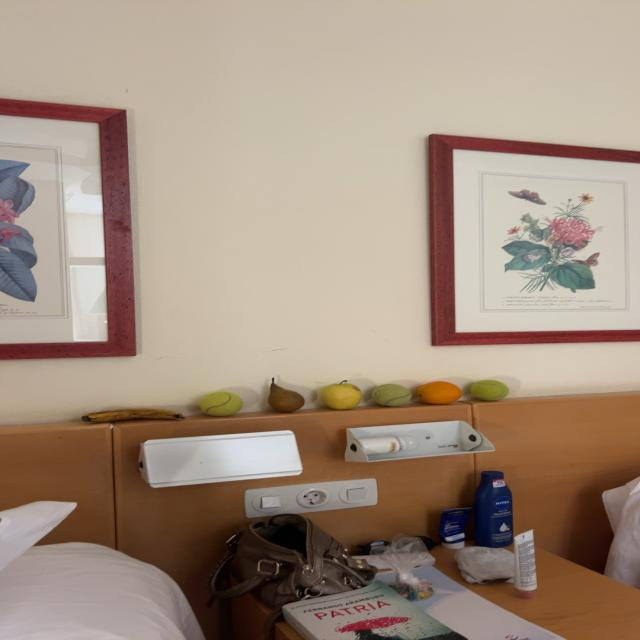apple: (322, 380, 361, 409)
bananas: (82, 408, 184, 423)
orange: (417, 381, 462, 404)
pear: (268, 378, 304, 412)
